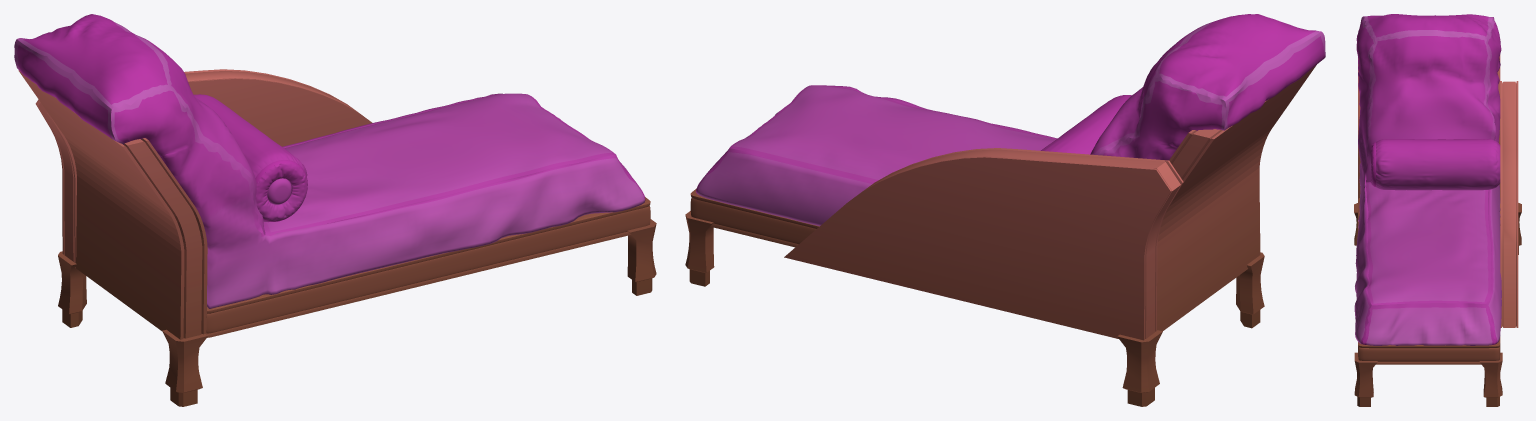
File: Chaiselongue.glb
The picture shows the model from 3 angles, left to right: view 1: azimuth 30°, elevation 25°; view 2: azimuth 150°, elevation 25°; view 3: azimuth 270°, elevation 25°; orthographic projection. The views are drawn at different scales.
Parts seen in each view (by area): view 1: Chaise longue; view 2: Chaise longue; view 3: Chaise longue.
Part boxes in pixels (<box>): Chaise longue: <box>14,14,656,406</box>; Chaise longue: <box>685,14,1325,406</box>; Chaise longue: <box>1354,14,1521,406</box>.
Size of the model in its own units: 2.46 by 1.43 by 0.9578.
Materials: 1 (1 with a texture image).
